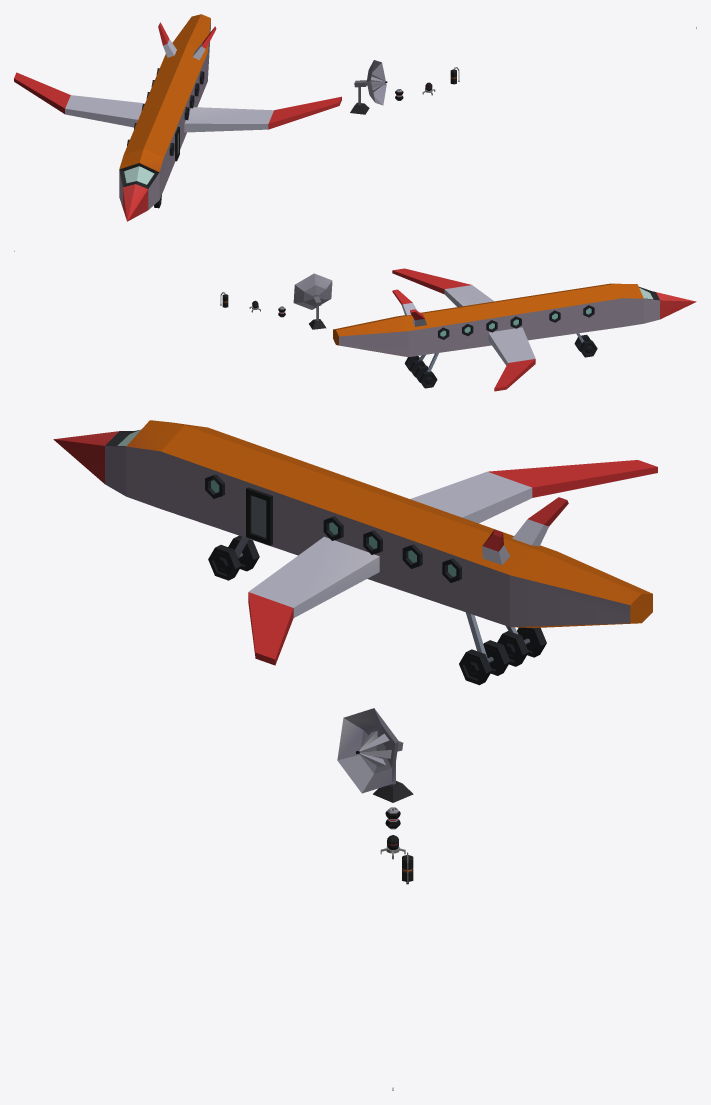
Rendered from Assets_pack_1-Scene_Elements.fbx.
3 renders of one model, top to bottom at view 1: azimuth 30°, elevation 25°; view 2: azimuth 150°, elevation 25°; view 3: azimuth 270°, elevation 25°, orthographic. The views are drawn at different scales.
Parts seen in each view (by area): view 1: plane, antenna; view 2: plane, antenna; view 3: plane, antenna.
Part boxes in pixels (x1,y1,x2,y2): plane: (14, 14, 341, 221); antenna: (350, 60, 387, 114); plane: (333, 268, 696, 391); antenna: (293, 273, 332, 329); plane: (53, 420, 657, 685); antenna: (337, 708, 413, 802).
Bounding box in the file's own units: 19880 × 2586 × 8708.
